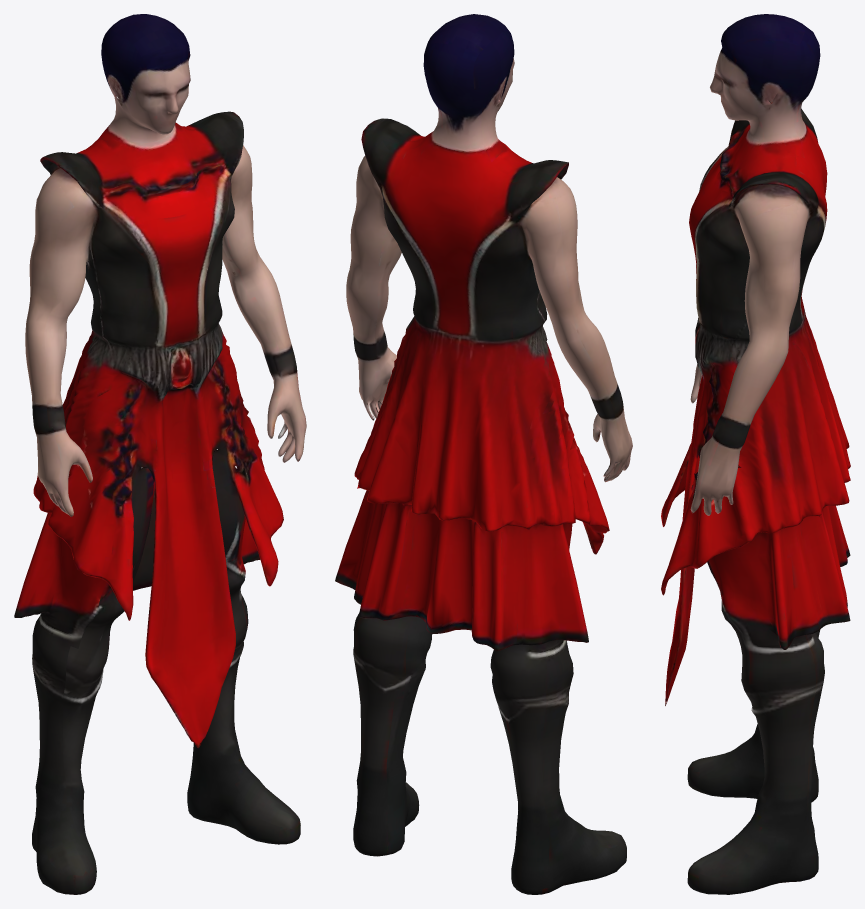
Rendered from ignis-esquelio-male-mage.glb.
3 renders of one model, left to right at view 1: azimuth 30°, elevation 25°; view 2: azimuth 150°, elevation 25°; view 3: azimuth 270°, elevation 25°, orthographic. The views are drawn at different scales.
Visible parts, largest first — view 1: model; view 2: model; view 3: model.
Boxes of the visible parts, x1,y1,x2,y2 form: model: (14,14,306,894); model: (335,14,632,894); model: (661,14,850,894).
Bounding box in the file's own units: 0.6258 × 1.9 × 0.3991.
1 material, 1 textured.
